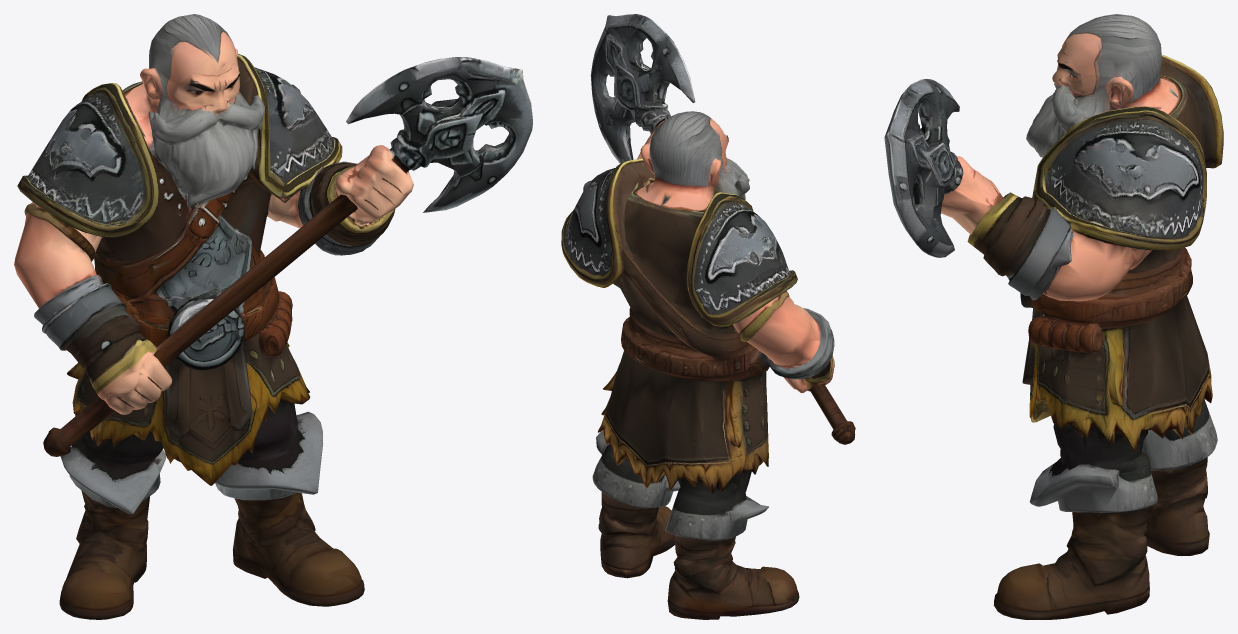
Rendered from borin.glb.
The picture shows the model from 3 angles, left to right: view 1: azimuth 30°, elevation 25°; view 2: azimuth 150°, elevation 25°; view 3: azimuth 270°, elevation 25°; orthographic projection. The views are drawn at different scales.
Size of the model in its own units: 1.42 by 1.91 by 1.07.
1 material, 1 textured.
